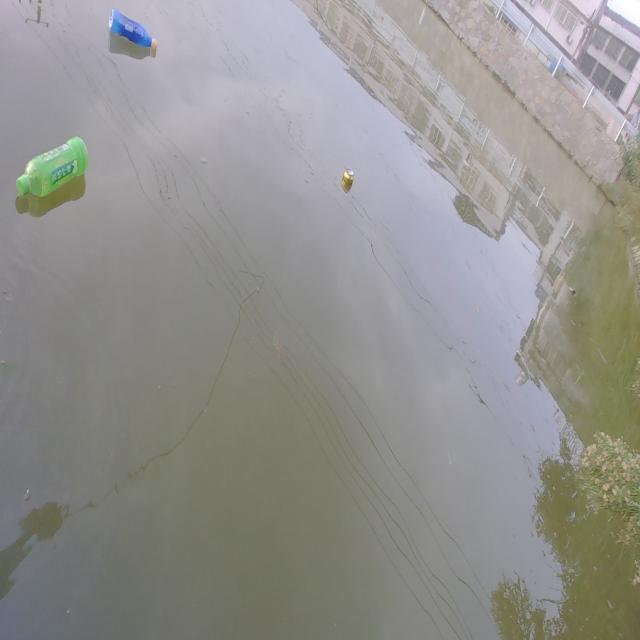garbage: (16, 134, 88, 198), (108, 7, 158, 59)
